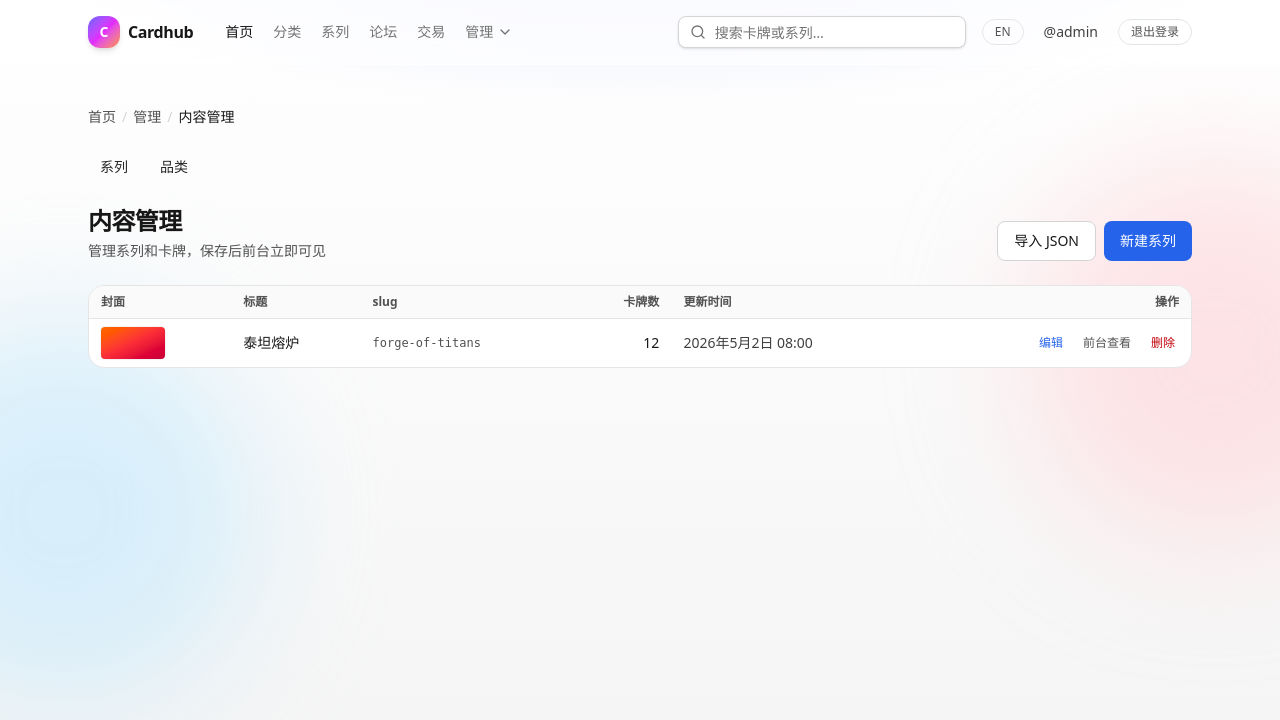
Scenario: CatalogSeriesPage delete › opens the force dialog for a series that still has cards
Click the button with aria-label "删除「泰坦熔炉」" at (1163, 343), box [1147, 331, 1179, 355]
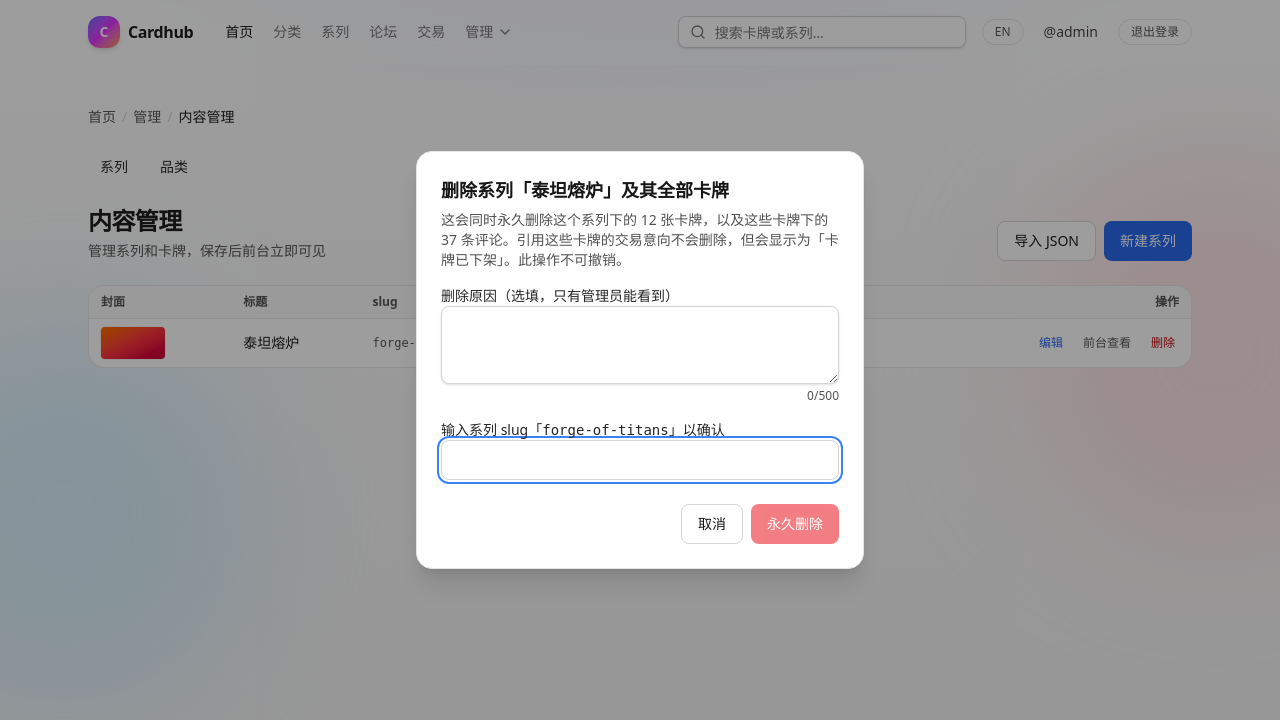
Expected: the dialog shows "12 张卡牌", [441, 210, 839, 269]
Expected: the dialog shows "37 条评论", [441, 210, 839, 269]
Expected: the button "永久删除" is disabled, [751, 504, 839, 544]
Type " Forge-of-titans " into the field labelled "输入系列 slug「forge-of-titans」以确认" at (640, 460), box [441, 440, 839, 480]
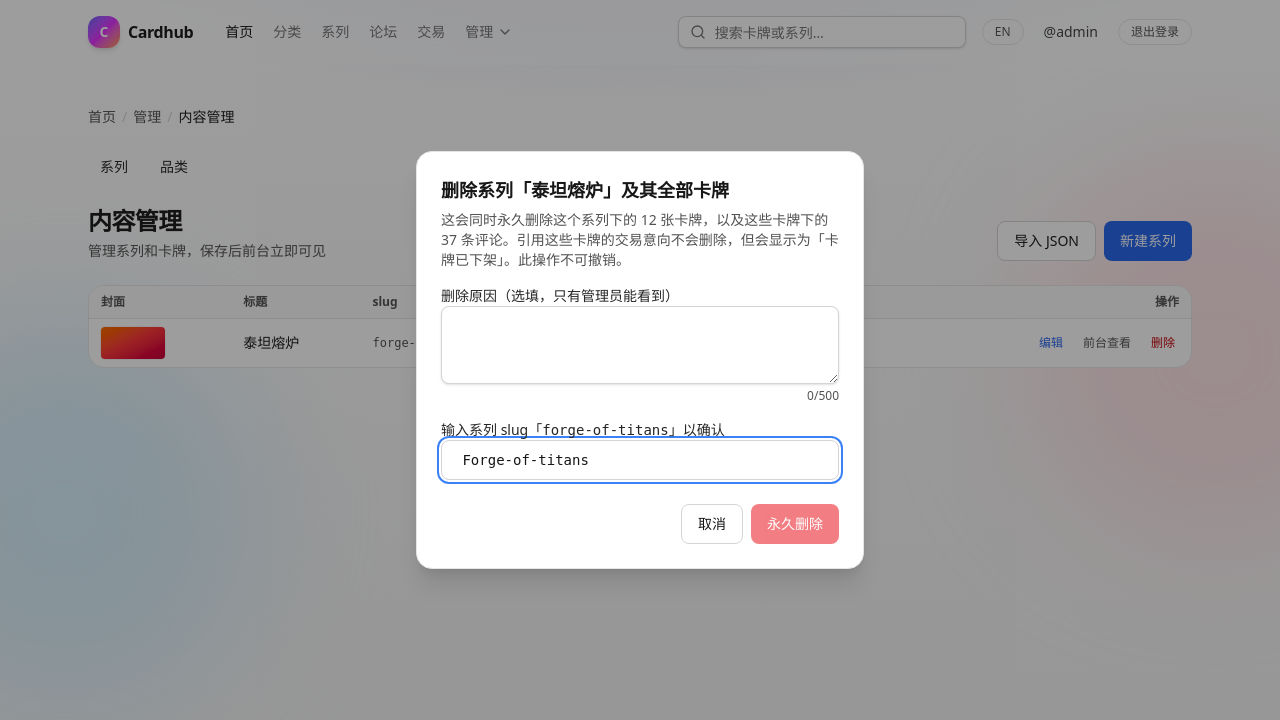
Expected: the button "永久删除" is disabled, [751, 504, 839, 544]
Replace the text in the field labelled "输入系列 slug「forge-of-titans」以确认" with " forge-of-titans " at (640, 460), box [441, 440, 839, 480]
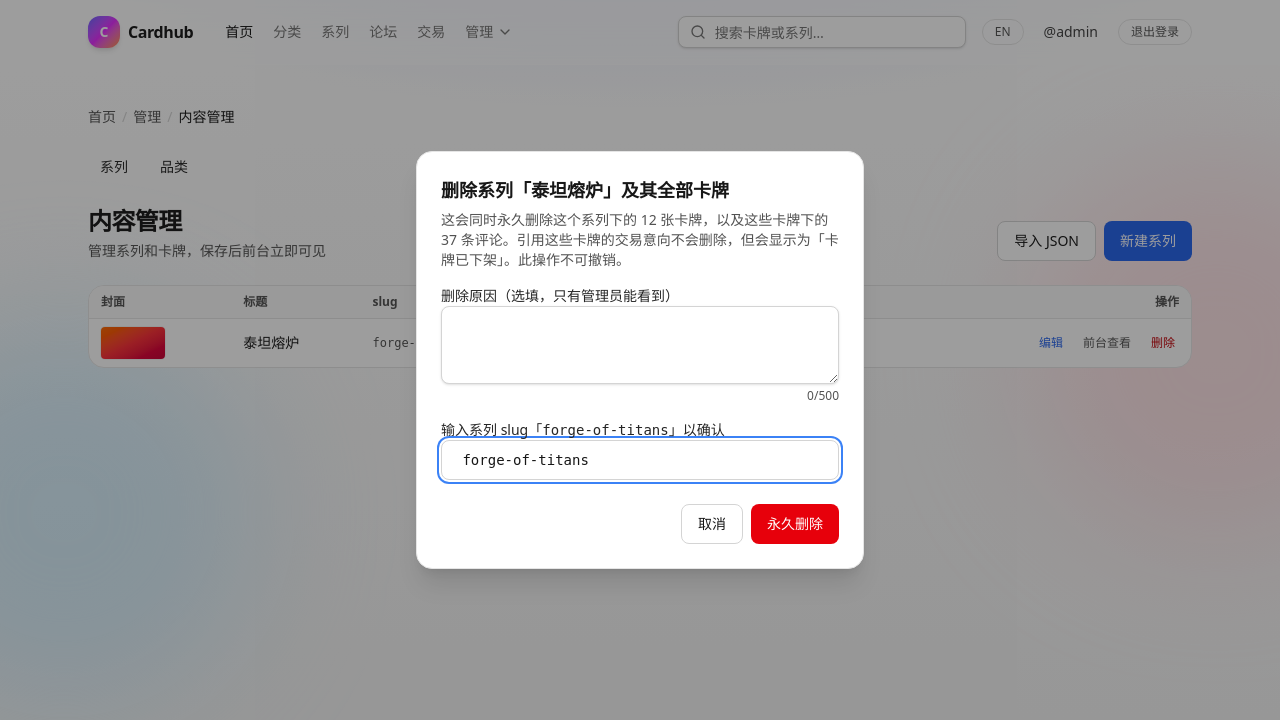
Expected: the button "永久删除" is enabled
Click the button "永久删除" at (795, 524), box [751, 504, 839, 544]
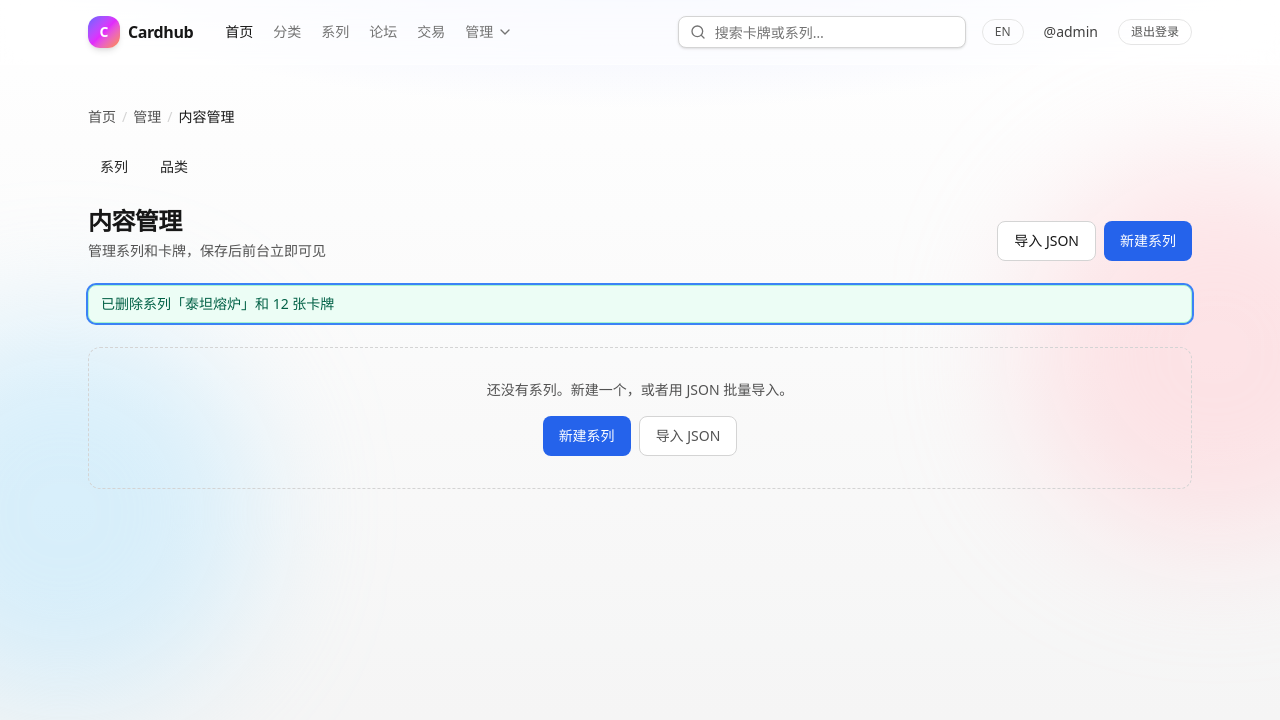
Expected: the message reads "已删除系列「泰坦熔炉」和 12 张卡牌", [101, 294, 334, 313]
